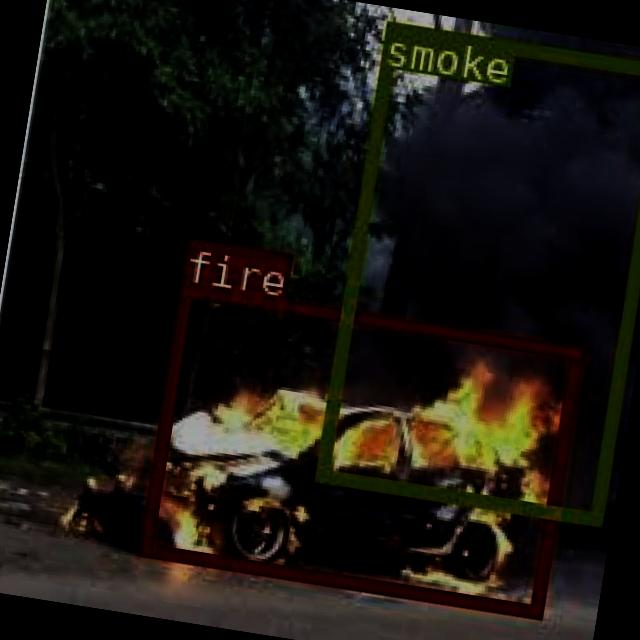fire: (138, 282, 582, 616)
smoke: (312, 18, 640, 525)
